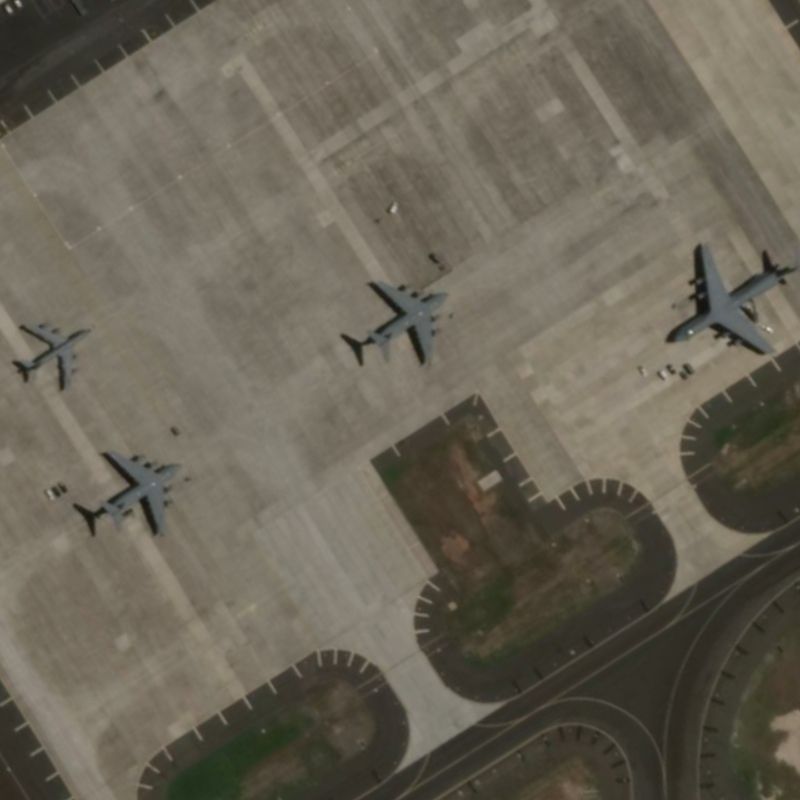A14: (10, 317, 94, 393)
A3: (95, 443, 187, 537), (363, 274, 454, 369)
A4: (665, 236, 800, 357)
